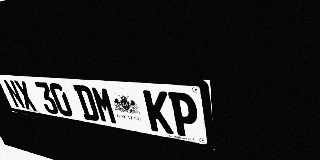0: (48, 83, 74, 117)
3: (34, 82, 60, 115)
D: (73, 85, 101, 122)
K: (143, 90, 174, 134)
M: (90, 86, 119, 125)
N: (3, 79, 26, 109)
P: (168, 92, 200, 139)
X: (13, 80, 38, 111)
